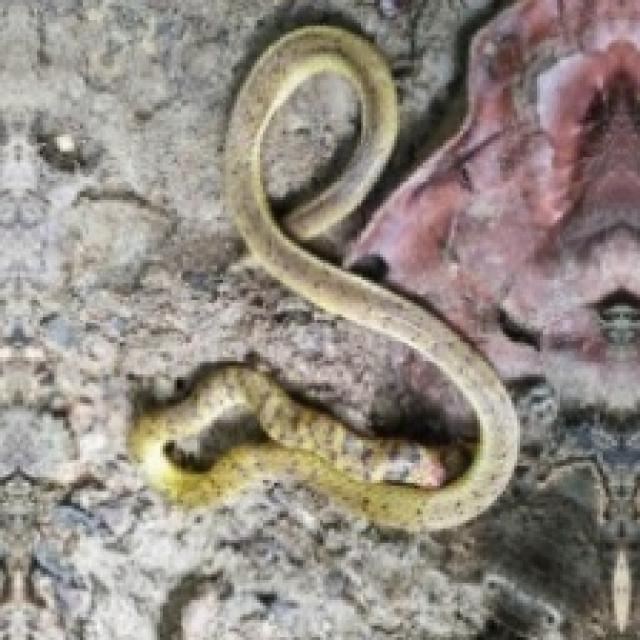luzon dwarf snake: (129, 26, 517, 529), (260, 71, 360, 217)
